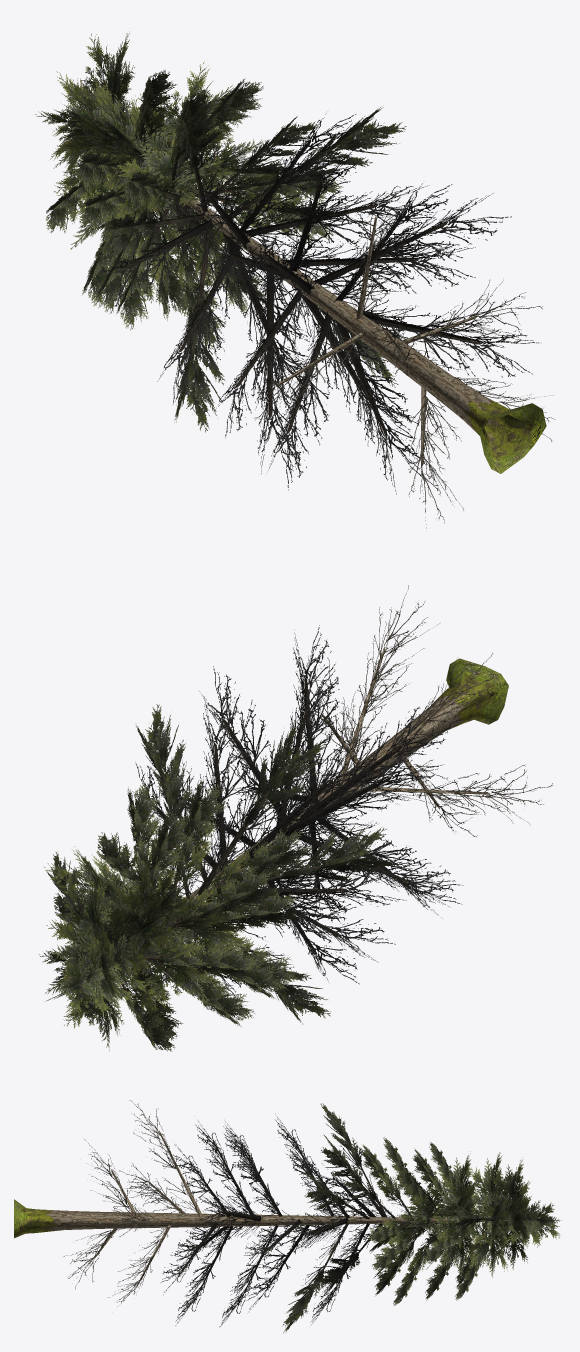
Rendered from pine tree fg 2.fbx.
3 views of the same model, one above another, from view 1: azimuth 30°, elevation 25°; view 2: azimuth 150°, elevation 25°; view 3: azimuth 270°, elevation 25° (orthographic). The views are drawn at different scales.
Visible parts, largest first — view 1: Cylinder_009; view 2: Cylinder_009; view 3: Cylinder_009.
Boxes of the visible parts, x1,y1,x2,y2 form: Cylinder_009: (35,33,554,528); Cylinder_009: (39,585,553,1051); Cylinder_009: (14,1100,561,1333).
Size of the model in its own units: 6.16 by 6.49 by 14.12.
